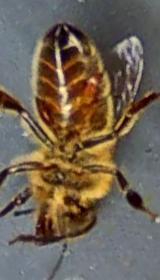varroa_mite: (76, 68, 107, 116), (28, 90, 58, 130)
